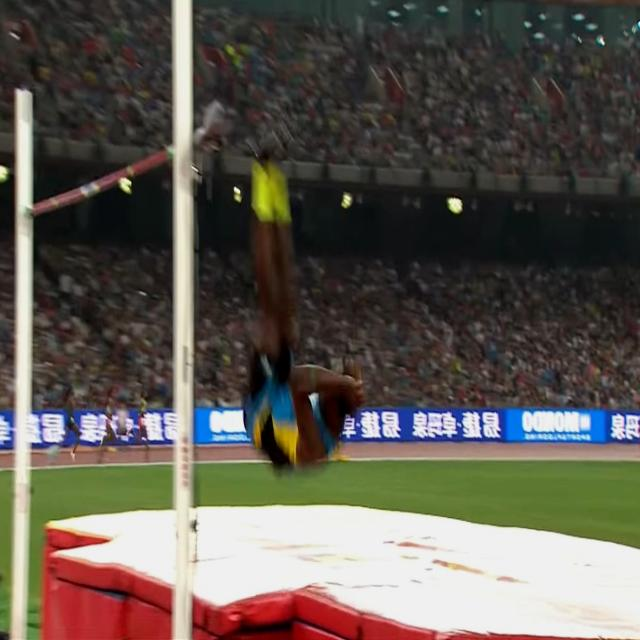land: (242, 115, 366, 468)
